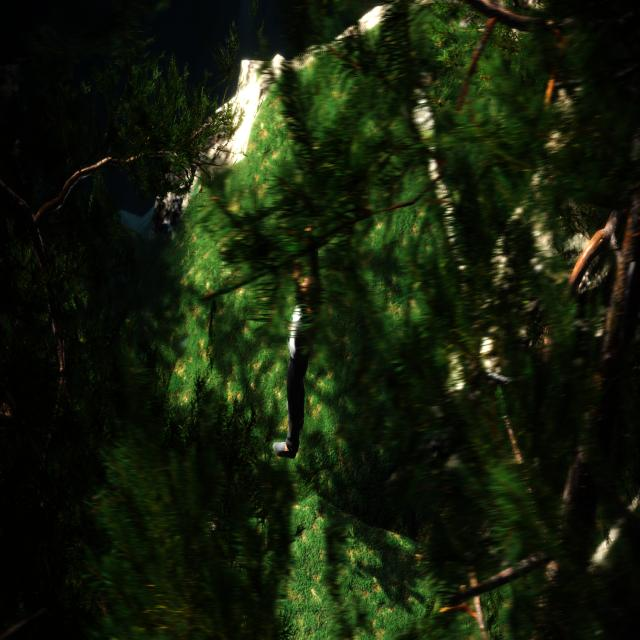Human: (269, 217, 325, 460)
